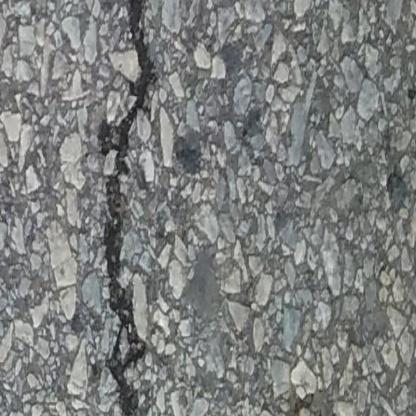Cracks: (96, 0, 161, 416)
